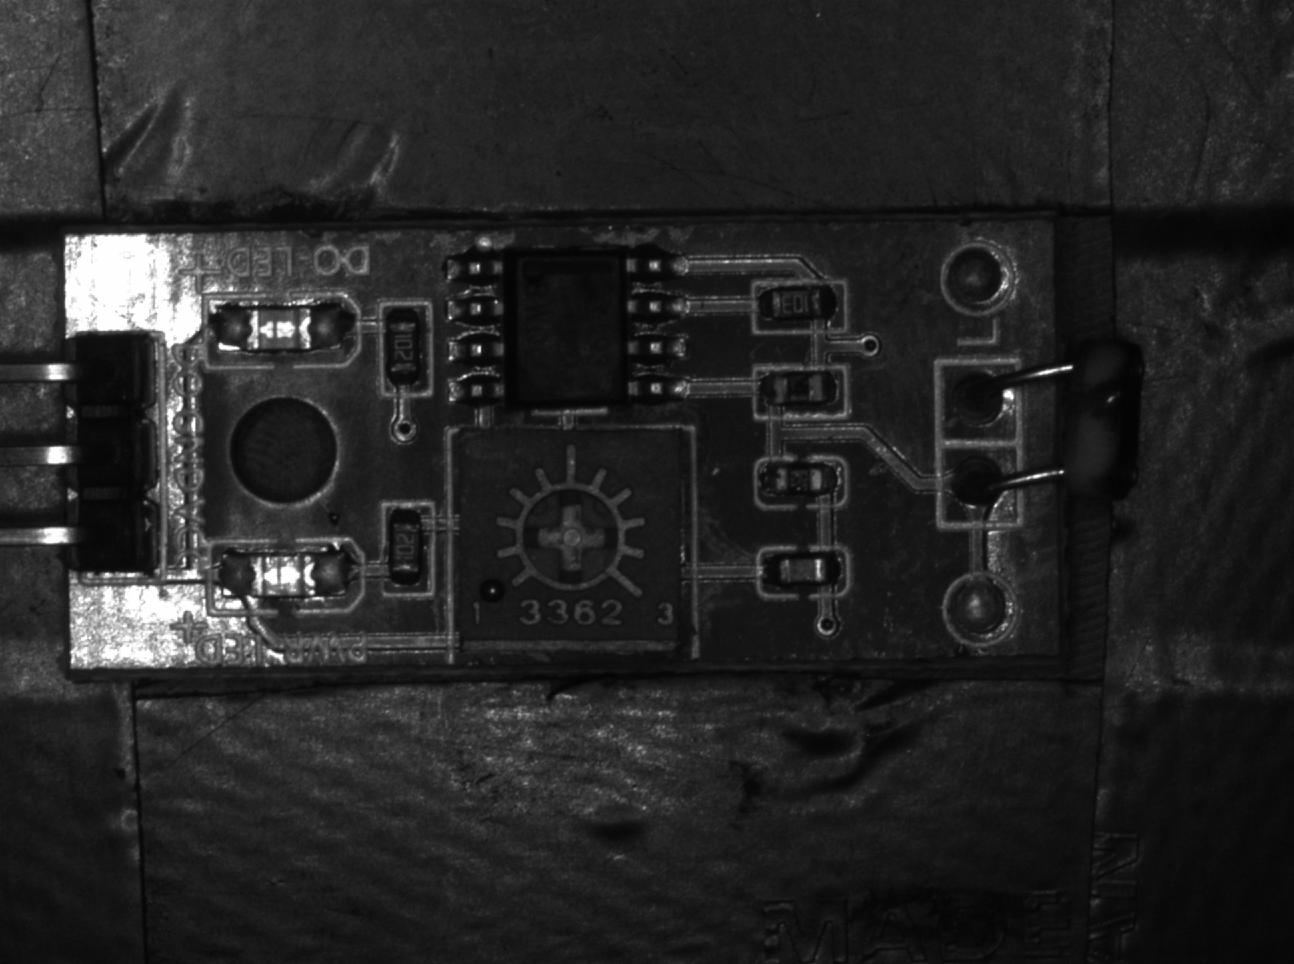miss: (753, 366, 854, 423), (755, 459, 853, 511)
ok: (754, 543, 853, 604), (376, 300, 434, 399), (748, 280, 850, 336), (385, 494, 433, 589)
